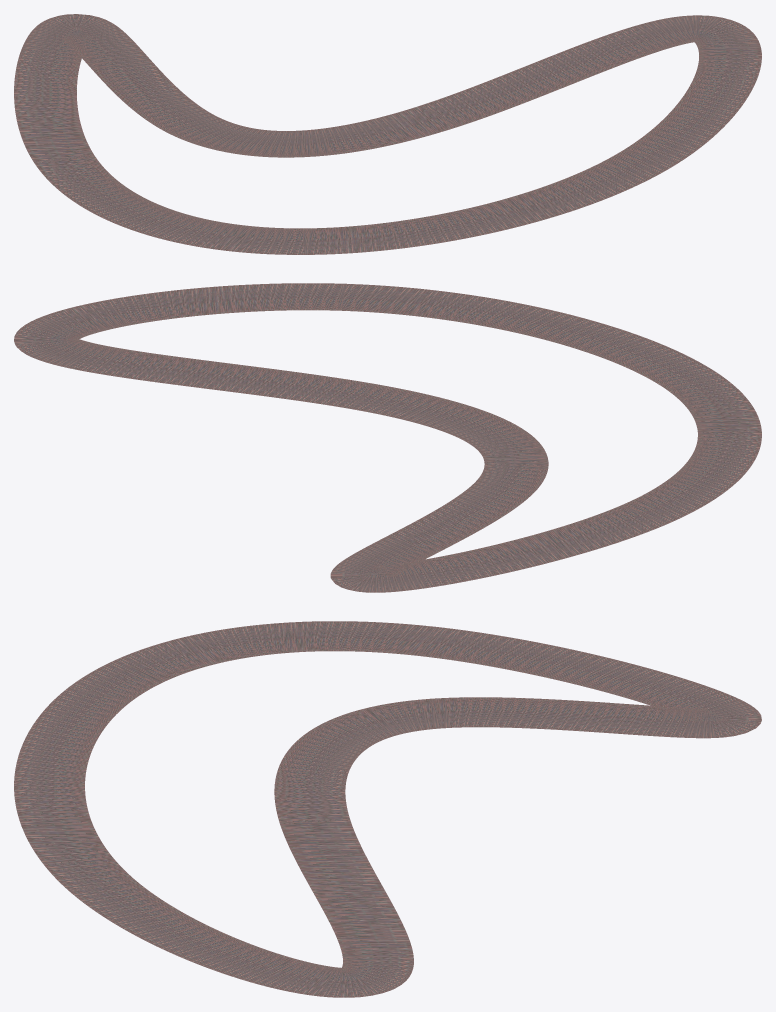
File: pista.obj
3 renders of one model, top to bottom at view 1: azimuth 30°, elevation 25°; view 2: azimuth 150°, elevation 25°; view 3: azimuth 270°, elevation 25°, orthographic. The views are drawn at different scales.
Visible parts, largest first — view 1: pista; view 2: pista; view 3: pista.
Part boxes in pixels (x1,y1,x2,y2): pista: (14,14,761,254); pista: (14,283,761,592); pista: (14,621,761,997).
Bounding box in the file's own units: 18.82 × 0 × 15.8.
